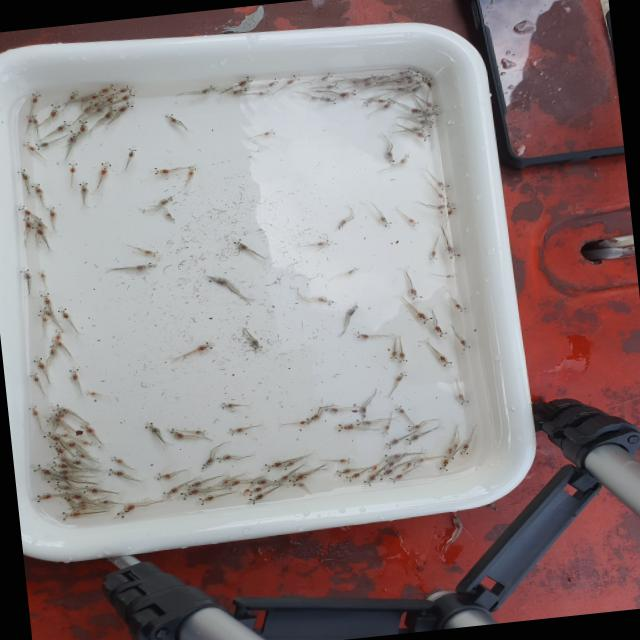babyshrimp: (201, 275, 234, 290), (187, 339, 218, 354), (112, 503, 138, 520), (57, 509, 88, 523), (442, 242, 464, 260), (412, 130, 434, 148), (242, 334, 266, 350), (140, 419, 161, 437), (414, 308, 435, 326), (244, 492, 269, 506), (27, 181, 46, 199), (406, 286, 427, 302), (32, 492, 62, 503), (53, 306, 72, 323), (25, 91, 45, 107), (31, 463, 60, 474), (434, 352, 455, 367), (262, 459, 286, 472), (45, 440, 67, 454), (38, 290, 55, 308), (17, 266, 33, 285), (288, 471, 308, 486), (233, 75, 258, 87), (450, 393, 471, 407), (330, 216, 347, 233), (178, 488, 202, 500), (373, 469, 397, 481), (432, 178, 452, 192), (39, 429, 62, 441), (406, 106, 429, 118), (196, 492, 217, 505), (65, 366, 82, 382), (29, 222, 47, 237), (198, 457, 216, 472), (80, 421, 99, 435), (393, 369, 412, 383), (104, 466, 128, 477), (333, 466, 357, 477), (342, 471, 364, 483), (313, 296, 337, 307), (116, 91, 136, 104), (161, 487, 181, 500), (228, 237, 248, 250), (414, 108, 440, 118), (101, 105, 117, 121), (65, 130, 82, 145), (441, 444, 458, 459), (354, 403, 371, 418), (15, 204, 33, 218), (383, 436, 404, 448), (142, 247, 163, 259), (53, 120, 72, 133), (271, 473, 290, 486), (382, 452, 404, 463), (47, 102, 62, 118), (387, 471, 407, 483), (404, 420, 424, 432), (159, 207, 175, 222), (338, 87, 358, 99), (15, 169, 29, 186), (377, 214, 394, 228), (455, 338, 473, 351), (450, 301, 468, 314), (165, 427, 186, 438), (226, 425, 247, 436), (182, 481, 205, 491), (404, 216, 423, 228), (37, 305, 52, 320), (95, 162, 111, 176), (32, 356, 46, 372), (26, 371, 42, 385), (393, 403, 409, 417), (45, 205, 58, 222), (423, 248, 440, 261), (51, 404, 71, 415), (214, 453, 236, 463), (353, 416, 375, 426), (98, 83, 116, 95), (117, 101, 135, 113), (52, 482, 76, 491), (329, 455, 353, 464), (431, 327, 449, 339), (26, 404, 41, 418), (343, 304, 358, 318), (399, 151, 413, 166), (46, 412, 65, 423), (198, 84, 217, 95), (286, 73, 302, 86), (422, 75, 435, 91), (159, 195, 176, 207), (162, 113, 179, 125), (61, 492, 86, 500), (393, 67, 413, 77), (82, 485, 104, 494), (51, 328, 65, 342), (458, 441, 472, 455), (400, 457, 415, 470), (380, 421, 393, 436), (442, 205, 457, 218), (407, 83, 422, 96), (103, 92, 119, 104), (404, 433, 420, 445), (436, 459, 452, 471), (383, 151, 399, 163), (153, 471, 172, 481), (244, 485, 263, 495), (20, 141, 37, 152), (109, 454, 126, 465), (360, 475, 377, 486), (77, 119, 91, 132), (20, 216, 33, 230), (77, 181, 89, 196), (411, 455, 429, 465), (335, 423, 355, 432), (314, 238, 334, 247), (359, 96, 377, 106), (407, 124, 425, 134), (34, 140, 50, 151), (52, 453, 71, 462), (134, 261, 153, 270), (152, 166, 171, 175), (403, 70, 422, 79), (224, 479, 241, 489), (361, 73, 378, 83), (418, 118, 435, 128), (125, 148, 138, 161), (185, 165, 198, 178), (51, 460, 69, 469), (432, 202, 450, 211), (435, 192, 451, 202), (319, 71, 335, 81), (396, 351, 409, 363), (36, 310, 47, 324), (92, 97, 104, 109), (220, 402, 238, 410), (280, 461, 296, 470), (256, 88, 274, 96), (66, 91, 80, 101), (118, 85, 132, 95), (264, 128, 278, 138), (83, 390, 100, 398), (231, 87, 248, 95), (266, 77, 281, 86), (67, 162, 78, 174), (249, 479, 271, 485), (192, 428, 208, 436), (375, 96, 391, 104), (402, 77, 418, 85), (298, 417, 312, 426), (23, 115, 34, 126), (36, 269, 46, 281), (323, 406, 343, 412), (393, 85, 410, 92), (81, 438, 95, 446), (355, 330, 369, 338), (346, 267, 360, 275), (90, 499, 112, 504), (47, 343, 56, 355), (321, 96, 336, 103), (325, 82, 340, 89), (388, 349, 398, 359), (309, 413, 320, 422), (381, 101, 395, 108), (89, 94, 105, 100), (429, 101, 439, 110), (444, 273, 458, 279), (29, 115, 39, 122), (195, 166, 199, 172), (432, 102, 437, 104)
